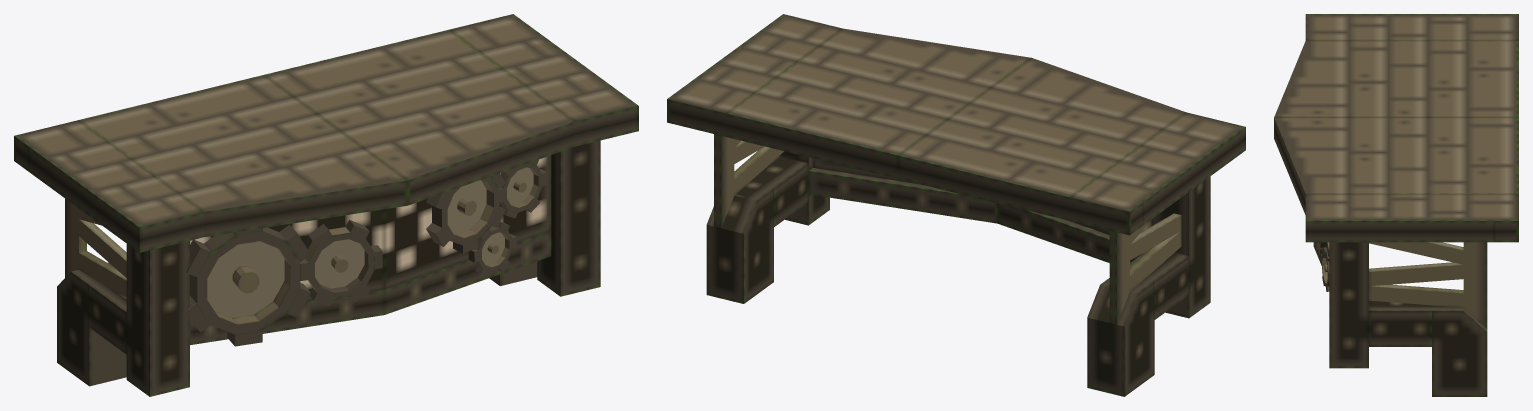
The model's file is Table.fbx.
3 views of the same model, side by side, from view 1: azimuth 30°, elevation 25°; view 2: azimuth 150°, elevation 25°; view 3: azimuth 270°, elevation 25° (orthographic). The views are drawn at different scales.
Parts seen in each view (by area): view 1: Mesa, Engranaje4, Patron, Engranaje5, Engranaje1, Tablas, Engranaje2, Engranaje3; view 2: Mesa, Tablas, Patron; view 3: Mesa, Tablas, Engranaje3.
Boxes of the visible parts, x1,y1,x2,y2 form: Mesa: (14, 14, 638, 396); Engranaje4: (186, 224, 310, 346); Patron: (190, 155, 551, 301); Engranaje5: (300, 220, 382, 306); Engranaje1: (426, 173, 505, 253); Tablas: (65, 198, 126, 297); Engranaje2: (499, 159, 547, 218); Engranaje3: (468, 221, 516, 276); Mesa: (667, 14, 1245, 396); Tablas: (714, 134, 1181, 324); Patron: (813, 158, 1151, 234); Mesa: (1274, 14, 1518, 396); Tablas: (1369, 242, 1487, 328); Engranaje3: (1321, 247, 1329, 291).
Size of the model in its own units: 194 by 81.25 by 96.88.
